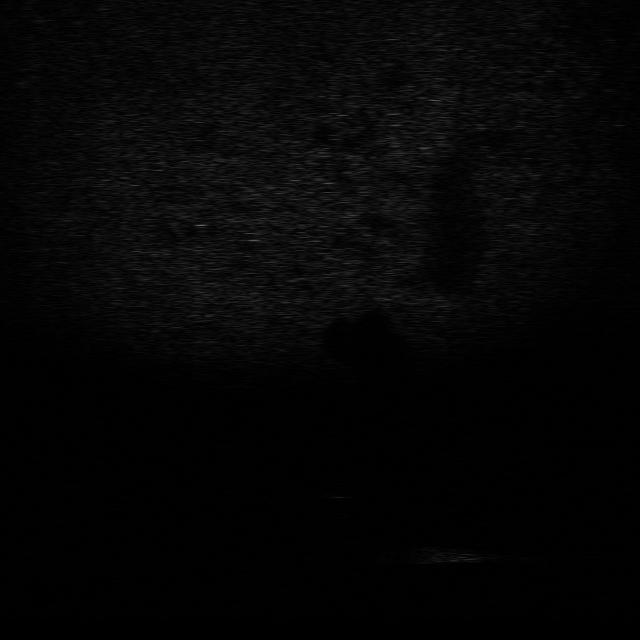ball: (315, 474, 361, 501)
metal bucket: (400, 542, 490, 569)
tyre: (350, 533, 405, 566)
